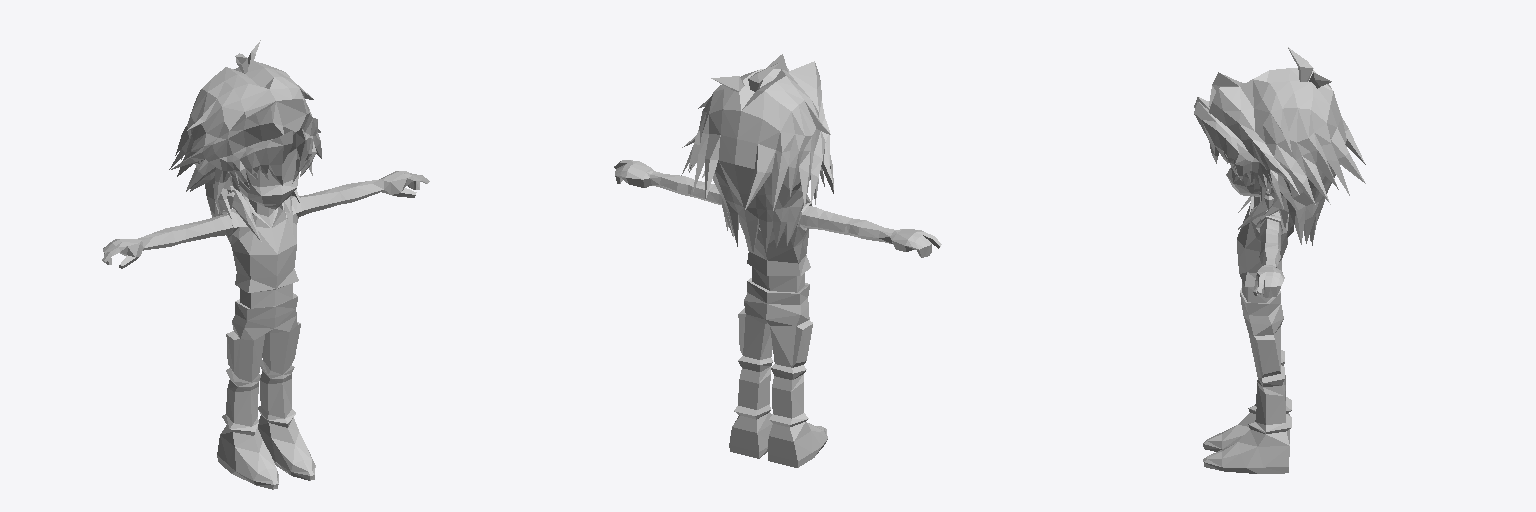
File: tposed_carton.obj
3 views of the same model, side by side, from view 1: azimuth 30°, elevation 25°; view 2: azimuth 150°, elevation 25°; view 3: azimuth 270°, elevation 25° (orthographic).
Size of the model in its own units: 0.8508 by 1 by 0.3887.